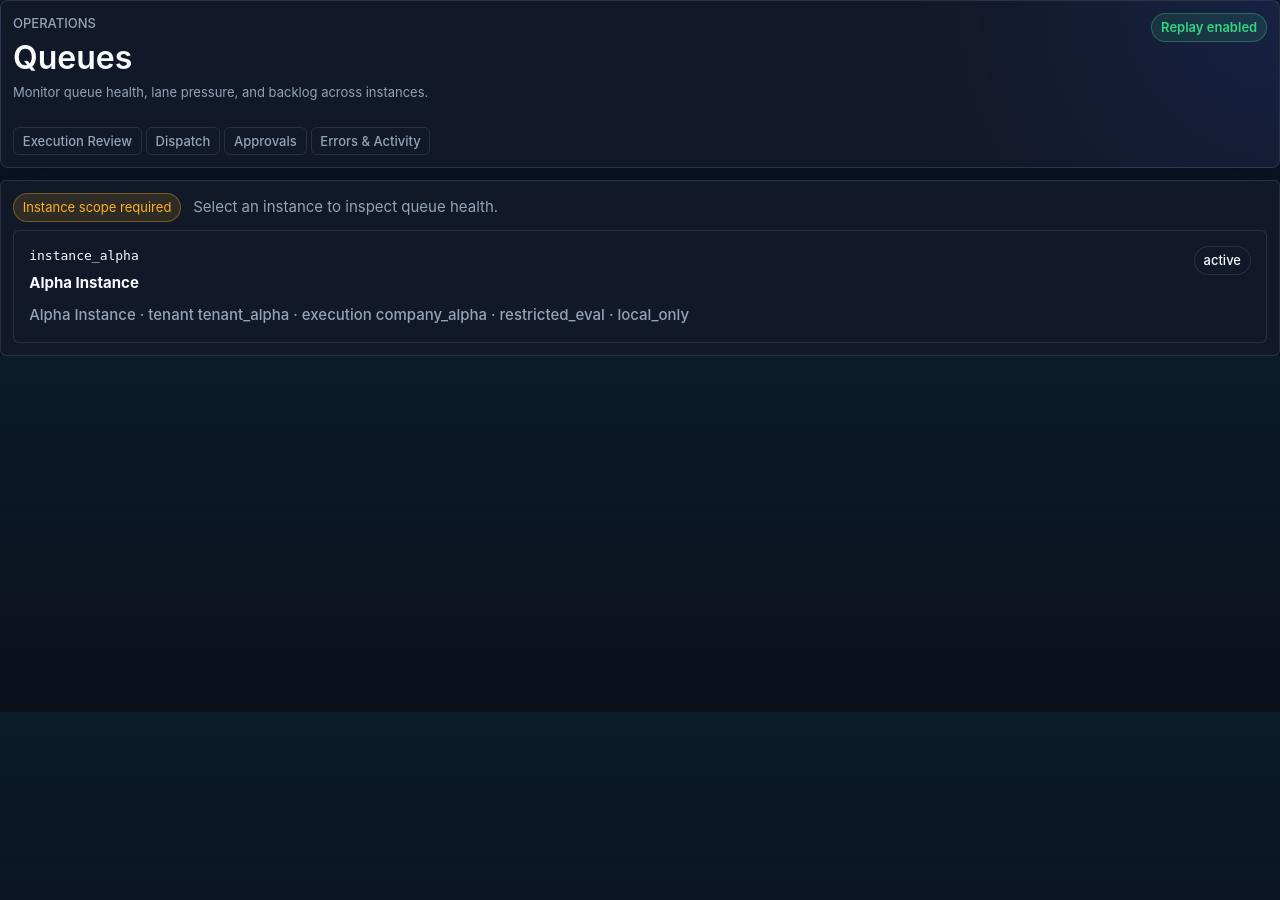
Test case: Queues page › loads queue truth for the chosen instance
The width and height of the screenshot is (1280, 900).
What coordinates should you click on to do the following:
click the button with class "fg-data-row"
I would click on:
 (84, 256)
Its box is top-left (13, 230), bottom-right (1267, 343).
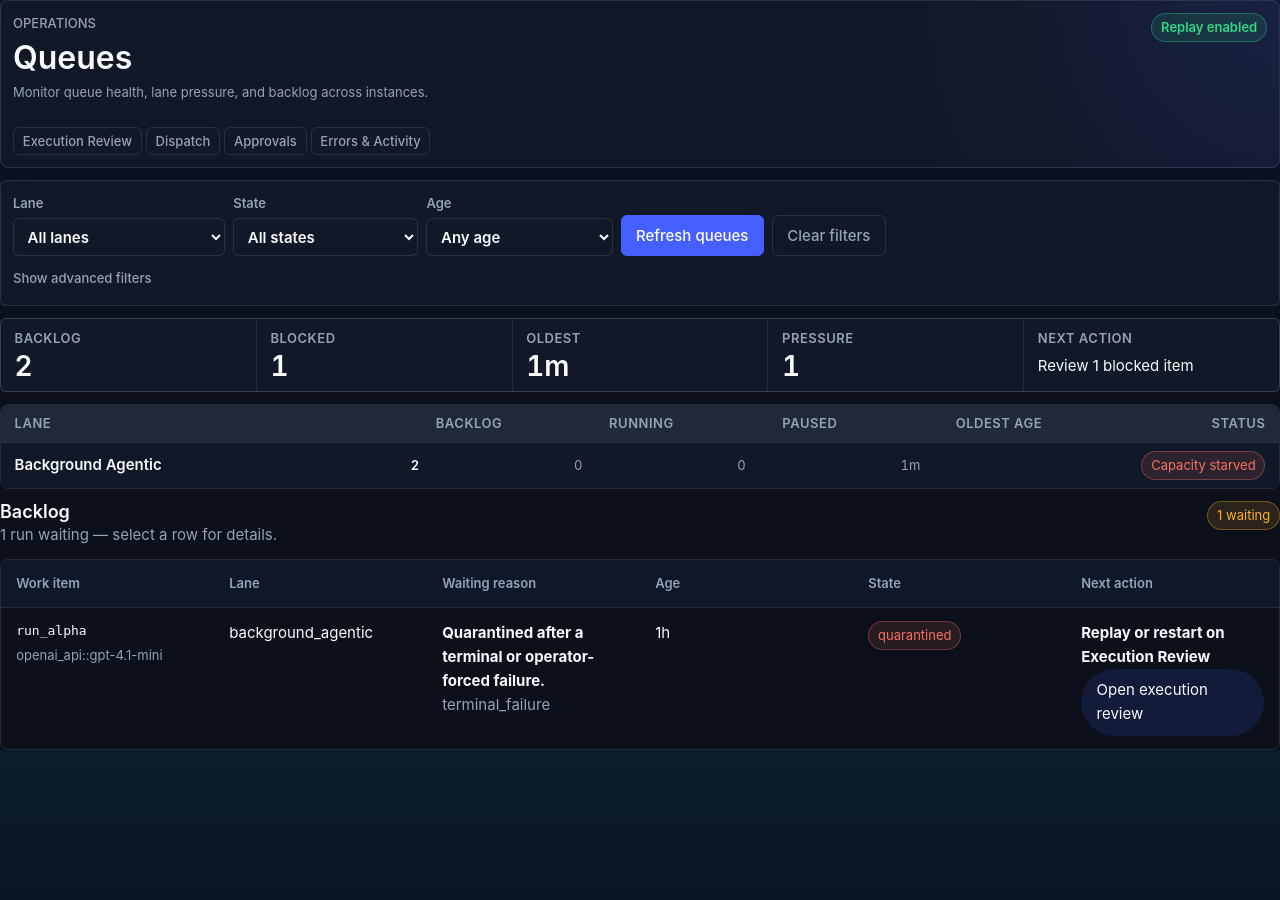
Expected: the text "Background Agentic" is shown, top-left (15, 455), bottom-right (162, 474)
Expected: the text "Capacity starved" is shown, top-left (1141, 451), bottom-right (1265, 480)
Expected: the text "Replay or restart on Execution Review" is shown, top-left (1081, 623), bottom-right (1225, 666)
